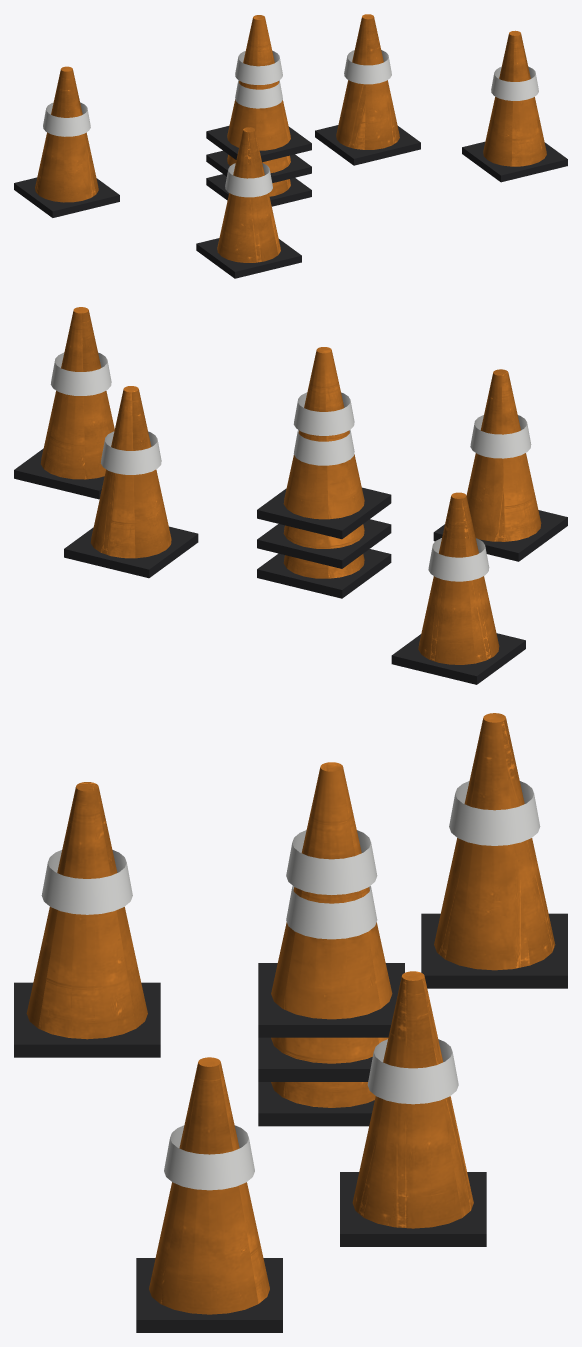
Rendered from cones.glb.
3 views of the same model, one above another, from view 1: azimuth 30°, elevation 25°; view 2: azimuth 150°, elevation 25°; view 3: azimuth 270°, elevation 25° (orthographic). The views are drawn at different scales.
Parts seen in each view (by area): view 1: cones; view 2: cones; view 3: cones.
Part boxes in pixels (<box>): cones: <box>14,14,567,278</box>; cones: <box>14,307,567,684</box>; cones: <box>14,713,567,1332</box>.
Bounding box in the file's own units: 2.36 × 0.8895 × 1.36.
Materials: 3 (1 with a texture image).
